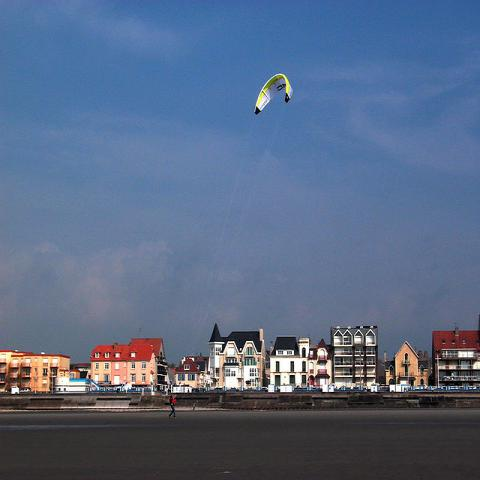car: (20, 388, 30, 392), (261, 388, 268, 392)
